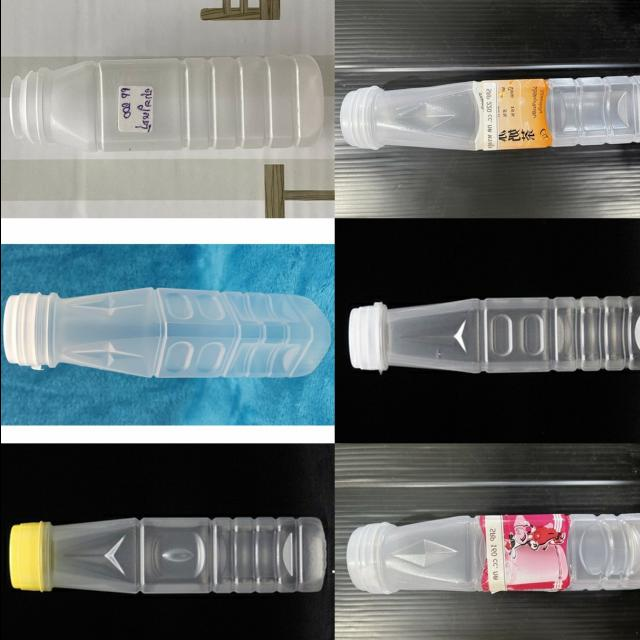plastik: (8, 54, 323, 153), (3, 287, 330, 378), (346, 513, 640, 595), (8, 517, 325, 593), (339, 75, 640, 150), (347, 297, 640, 373)
